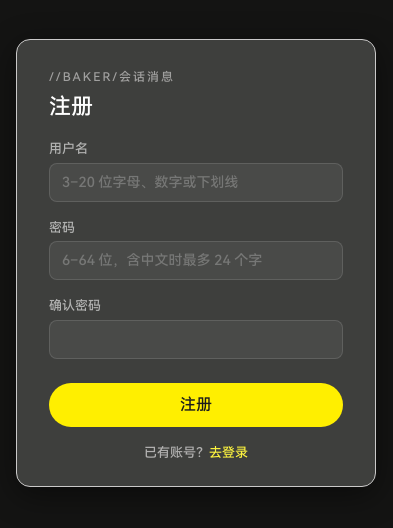
RegisterPage › 用户名不合规或密码过短时提示且不发请求
Type "a-b" into the field labelled "用户名" at [196, 182], box [49, 162, 343, 202]
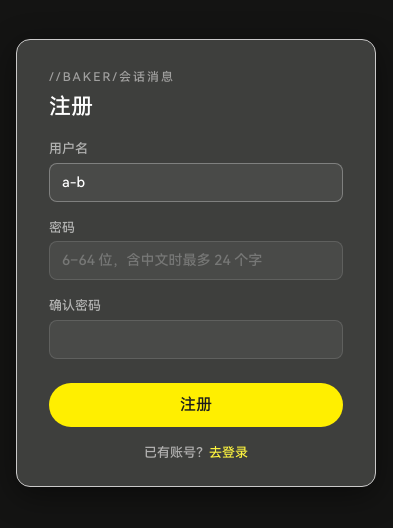
Type "123" into the password field labelled "密码" at [196, 260], box [49, 241, 343, 280]
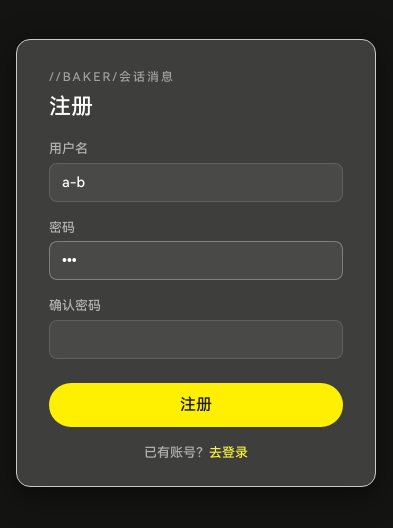
Type "123" into the password field labelled "确认密码" at [196, 339], box [49, 320, 343, 358]
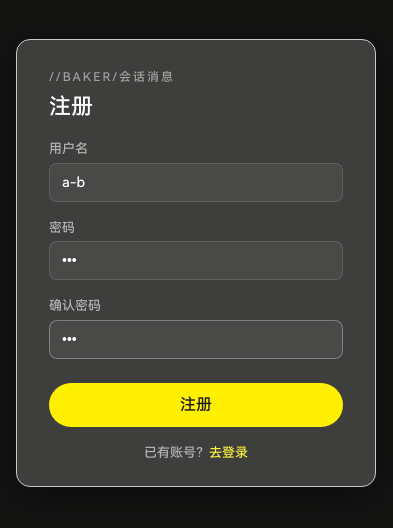
Click the button "注册" at [196, 404], box [49, 382, 343, 426]
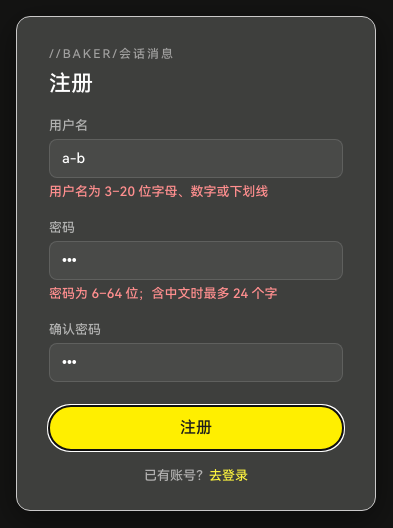
Check: the text "用户名为 3–20 位字母、数字或下划线" is shown, box [49, 184, 268, 199]
Check: the text "密码为 6–64 位；含中文时最多 24 个字" is shown, box [49, 286, 278, 301]
